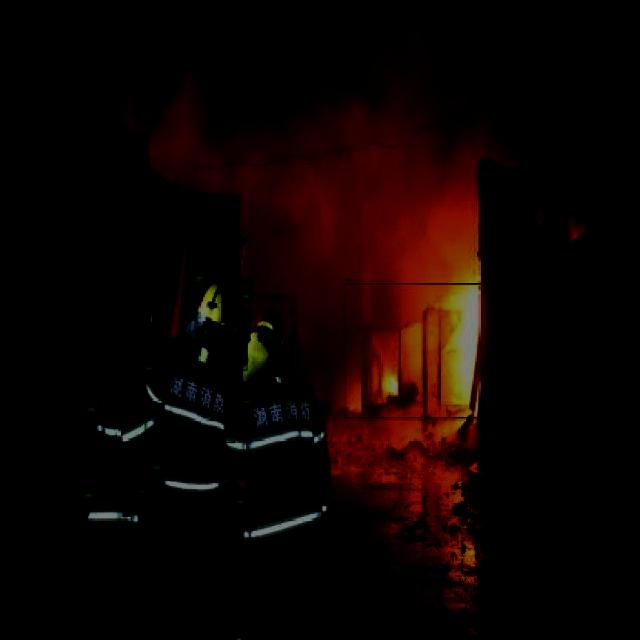fire: (344, 283, 488, 419)
